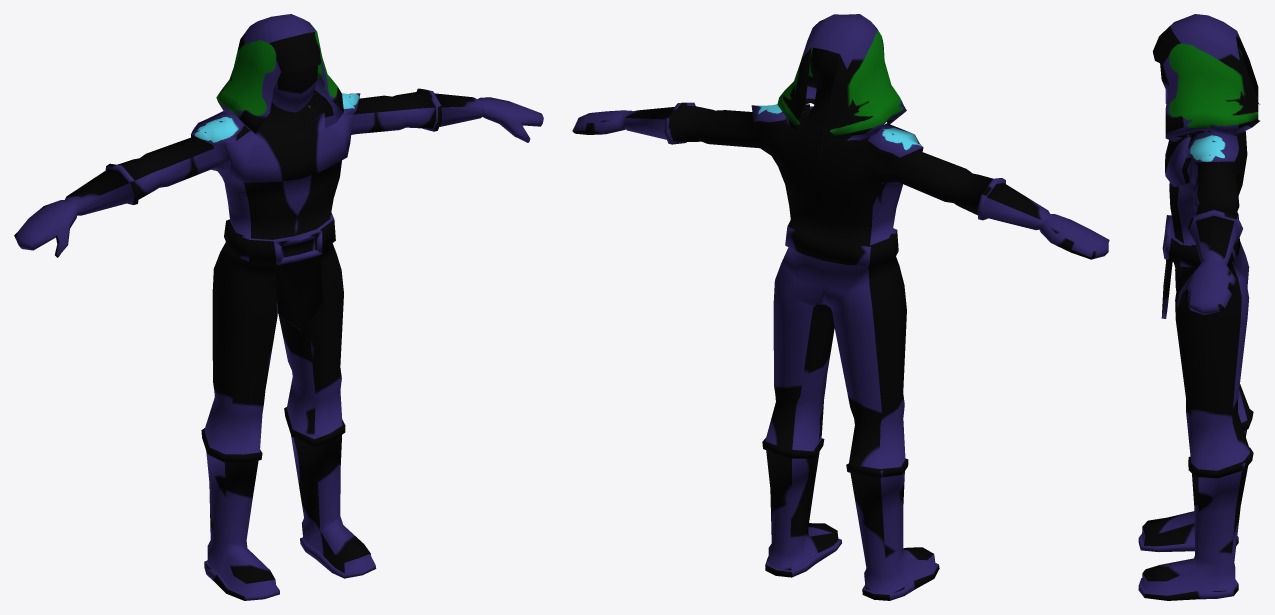
Rendered from archer.glb.
3 renders of one model, left to right at view 1: azimuth 30°, elevation 25°; view 2: azimuth 150°, elevation 25°; view 3: azimuth 270°, elevation 25°, orthographic.
Parts seen in each view (by area): view 1: Cube; view 2: Cube; view 3: Cube.
Part boxes in pixels (x1,y1,x2,y2): Cube: [14, 14, 543, 600]; Cube: [572, 14, 1109, 600]; Cube: [1138, 14, 1259, 600].
Bounding box in the file's own units: 13.17 × 13.12 × 2.66.
1 material, 1 textured.
